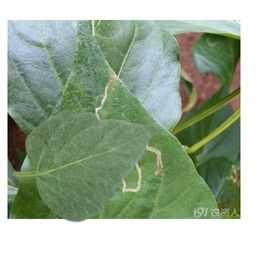liriomyza: (95, 77, 115, 120), (120, 159, 142, 193), (145, 144, 163, 176)
